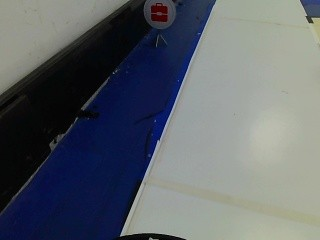company: (142, 0, 178, 32)
